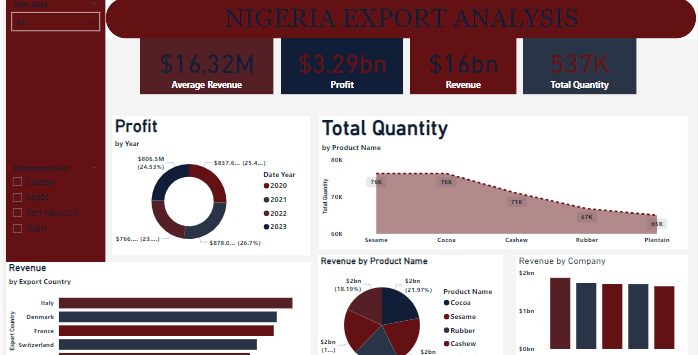

The page's visual inventory and layout, read from the dashboard file:
{"tool":"powerbi","page":{"name":"Page 1","canvas":[1280,720],"ordinal":0},"visuals":[{"type":"shape","box":[183.6,0,1095.8,77.9],"z":0},{"type":"card","fields":{"Values":["key measures.Average Revenue"]},"box":[248.5,76,246.6,103.8],"z":1000},{"type":"card","fields":{"Values":["key measures.Profit"]},"box":[509.9,76,226.2,103.8],"z":2000},{"type":"card","fields":{"Values":["key measures.Revenue"]},"box":[747.2,76,196.5,103.8],"z":3000},{"type":"card","fields":{"Values":["key measures.Total Quantity"]},"box":[956.8,76,209.5,103.8],"z":4000},{"type":"barChart","fields":{"Y":["key measures.Revenue"],"Category":["nigeria_agricultural_exports.Export Country"]},"box":[0,491.4,563.7,228.1],"z":5000},{"type":"donutChart","fields":{"Y":["key measures.Profit"],"Category":["nigeria_agricultural_exports.Date.Variation.Date Hierarchy.Year","nigeria_agricultural_exports.Date.Variation.Date Hierarchy.Quarter","nigeria_agricultural_exports.Date.Variation.Date Hierarchy.Month","nigeria_agricultural_exports.Date.Variation.Date Hierarchy.Day"]},"box":[196.5,220.6,367.1,257.7],"z":6000},{"type":"lineStackedColumnComboChart","fields":{"Category":["nigeria_agricultural_exports.Company"],"Y":["key measures.Revenue"]},"box":[943.8,478.4,318.9,241],"z":7000},{"type":"slicer","fields":{"Values":["nigeria_agricultural_exports.Destination Port"]},"box":[0,304.1,183.6,187.3],"z":8000},{"type":"pieChart","fields":{"Y":["key measures.Revenue"],"Category":["nigeria_agricultural_exports.Product Name"]},"box":[578.5,478.4,343,241],"z":9000},{"type":"stackedAreaChart","fields":{"Category":["nigeria_agricultural_exports.Product Name"],"Y":["key measures.Total Quantity"]},"box":[579,221.2,683.1,247.2],"z":10000},{"type":"slicer","fields":{"Values":["nigeria_agricultural_exports.Year","nigeria_agricultural_exports.Date"]},"box":[0,0,183.6,304.1],"z":11000}]}

Visuals, with their boxes on the page's 1280x720 design canvas (x1, y1, x2, y2). These are canvas units, not pixel positions in the 698x355 screenshot, which may show the page scaled, cropped or inside an application window:
shape: 184 0 1279 78
card - key measures.Average Revenue: 248 76 495 180
card - key measures.Profit: 510 76 736 180
card - key measures.Revenue: 747 76 944 180
card - key measures.Total Quantity: 957 76 1166 180
barChart - key measures.Revenue x nigeria_agricultural_exports.Export Country: 0 491 564 720
donutChart - key measures.Profit x nigeria_agricultural_exports.Date.Variation.Date Hierarchy.Year: 196 221 564 478
lineStackedColumnComboChart - nigeria_agricultural_exports.Company x key measures.Revenue: 944 478 1263 719
slicer - nigeria_agricultural_exports.Destination Port: 0 304 184 491
pieChart - key measures.Revenue x nigeria_agricultural_exports.Product Name: 578 478 922 719
stackedAreaChart - nigeria_agricultural_exports.Product Name x key measures.Total Quantity: 579 221 1262 468
slicer - nigeria_agricultural_exports.Year x nigeria_agricultural_exports.Date: 0 0 184 304
